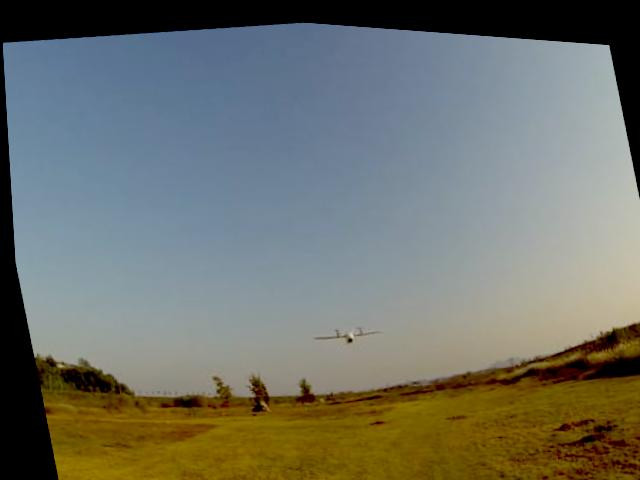uav: (299, 303, 388, 357)
